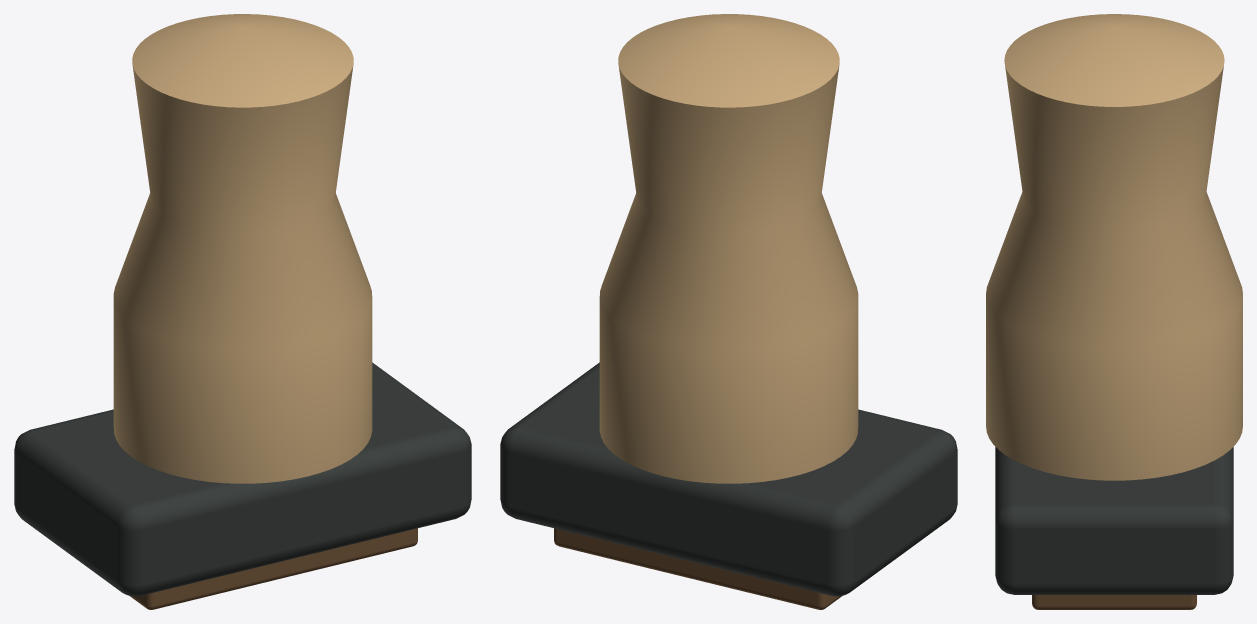
File: sawmill-and-timber-yard-grading-stamp-e9911e66__31195.glb
3 renders of one model, left to right at view 1: azimuth 30°, elevation 25°; view 2: azimuth 150°, elevation 25°; view 3: azimuth 270°, elevation 25°, orthographic.
Visible parts, largest first — view 1: grading-stamp; view 2: grading-stamp; view 3: grading-stamp.
Boxes of the visible parts, <box> form: grading-stamp: <box>14,14,471,609</box>; grading-stamp: <box>500,14,957,609</box>; grading-stamp: <box>986,14,1242,609</box>.
Bounding box in the file's own units: 0.11 × 0.156 × 0.07.
